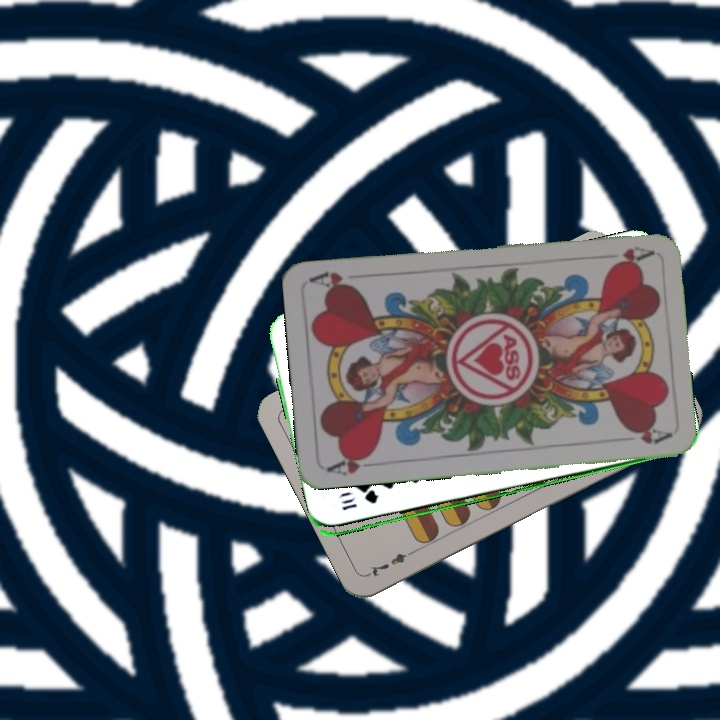E7: (364, 545, 419, 580)
G10: (338, 490, 382, 513)
HA: (322, 449, 382, 478), (607, 242, 655, 269)
